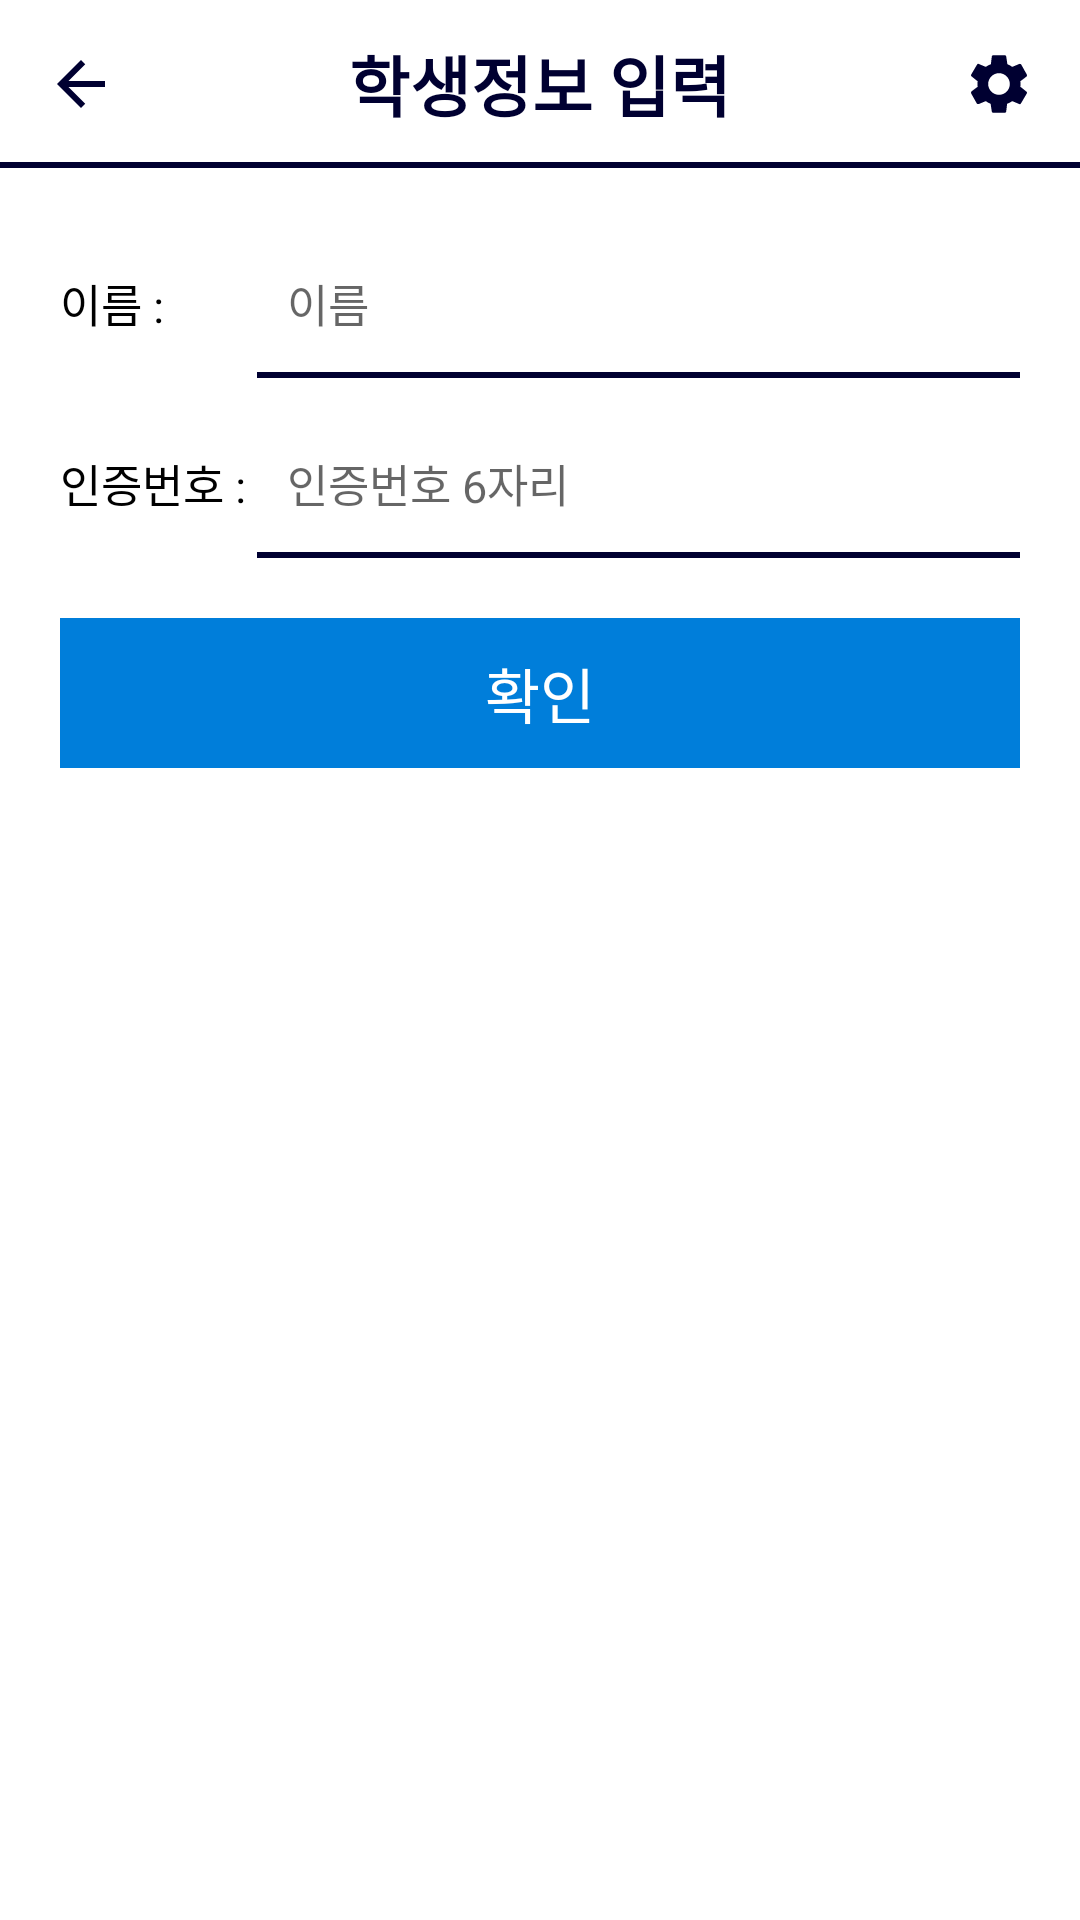

Icons on this 1080x1920 Android screen, each with its box as (x1, y1, x2, y2):
settings: (971, 55, 1027, 113)
